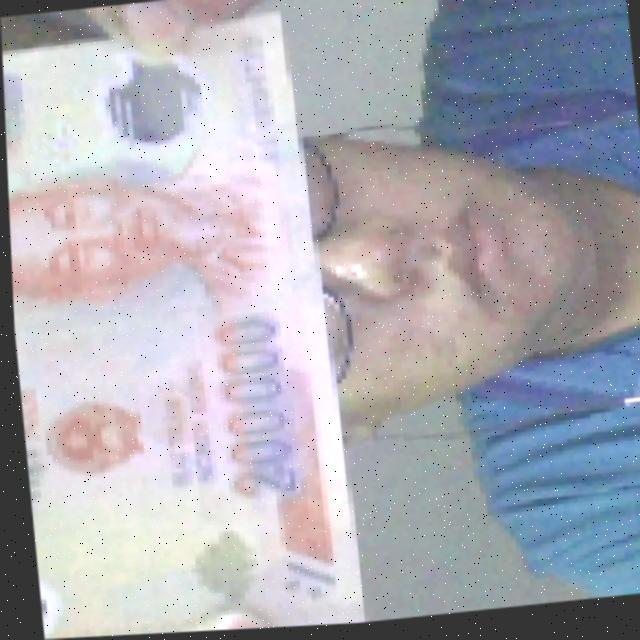200 000 VND: (1, 5, 358, 640)
